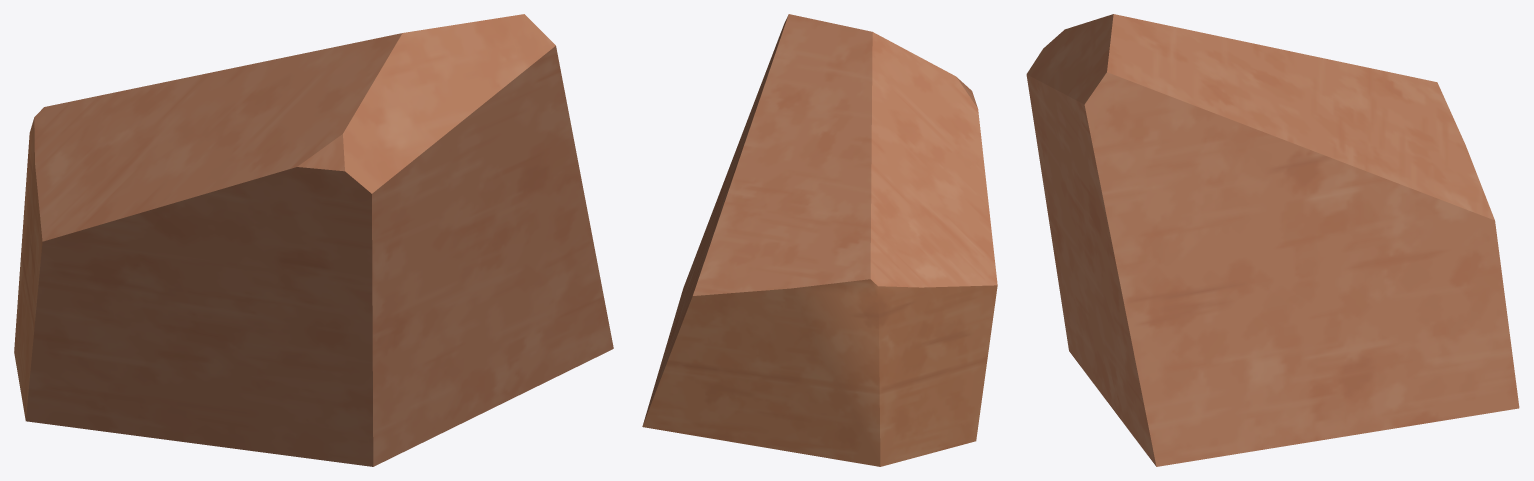
The model's file is kiln_s09.fbx.
3 renders of one model, left to right at view 1: azimuth 30°, elevation 25°; view 2: azimuth 150°, elevation 25°; view 3: azimuth 270°, elevation 25°, orthographic. The views are drawn at different scales.
Visible parts, largest first — view 1: kiln_s09; view 2: kiln_s09; view 3: kiln_s09.
Boxes of the visible parts, <box> form: kiln_s09: <box>14,14,613,466</box>; kiln_s09: <box>642,14,997,466</box>; kiln_s09: <box>1026,14,1519,466</box>.
Bounding box in the file's own units: 4.36 × 3.42 × 4.15.
